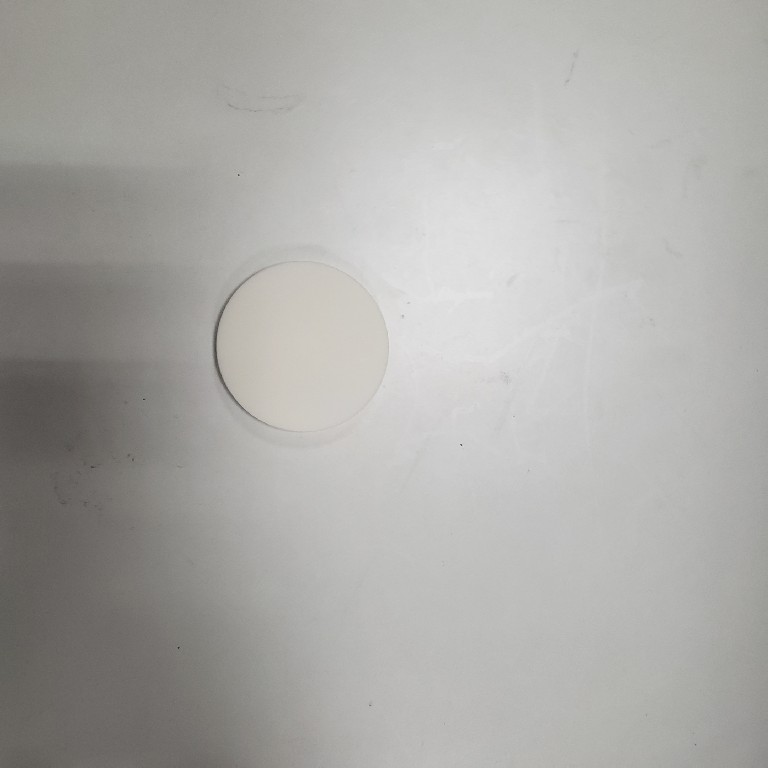ceramics: (211, 256, 394, 439)
